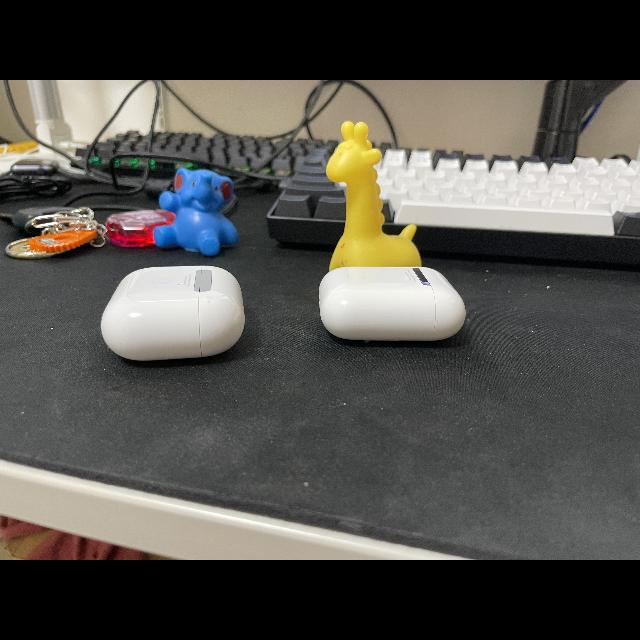airpod2: (312, 261, 468, 349)
airpod3: (95, 251, 248, 367)
